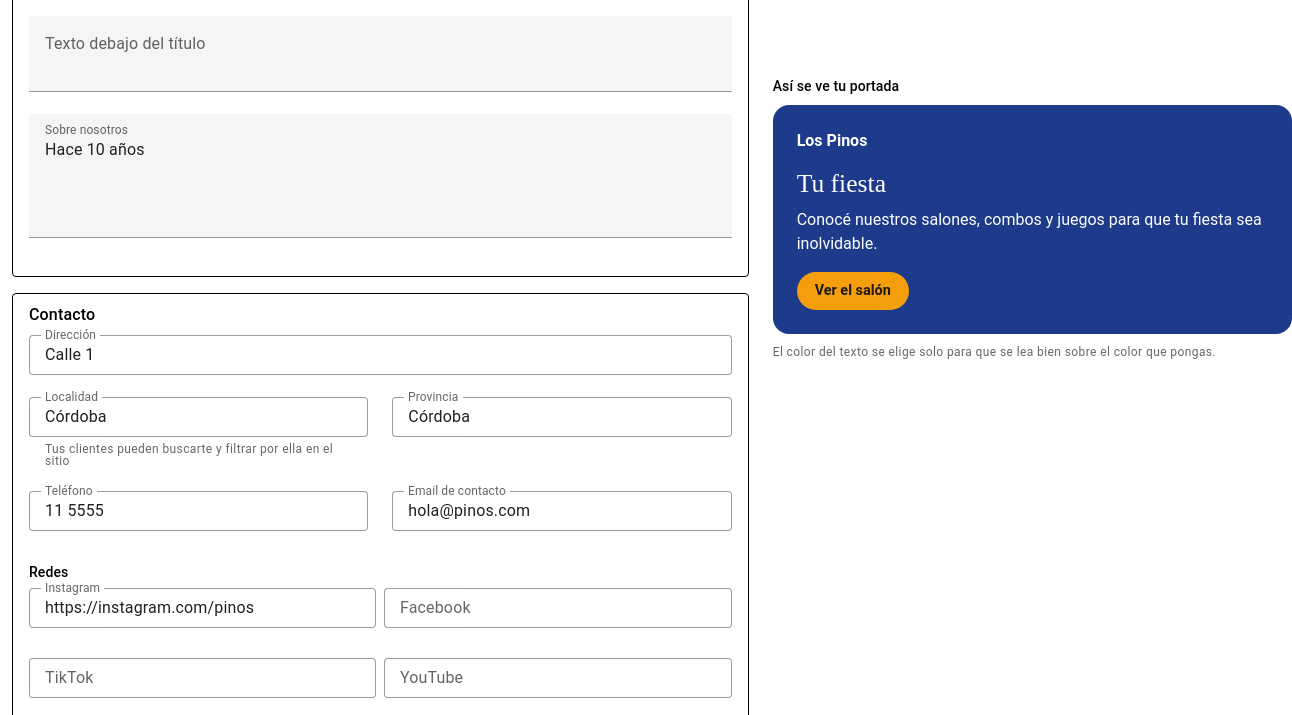
Test: MarcaView › guardado › sin cambios no se puede guardar; al editar aparece el aviso de cambios sin guardar
(page scrolled)
Step 1. Replace the text in the field labelled "Dirección" with "Calle 2" → point(380, 355), box [29, 335, 732, 375]
(page scrolled)
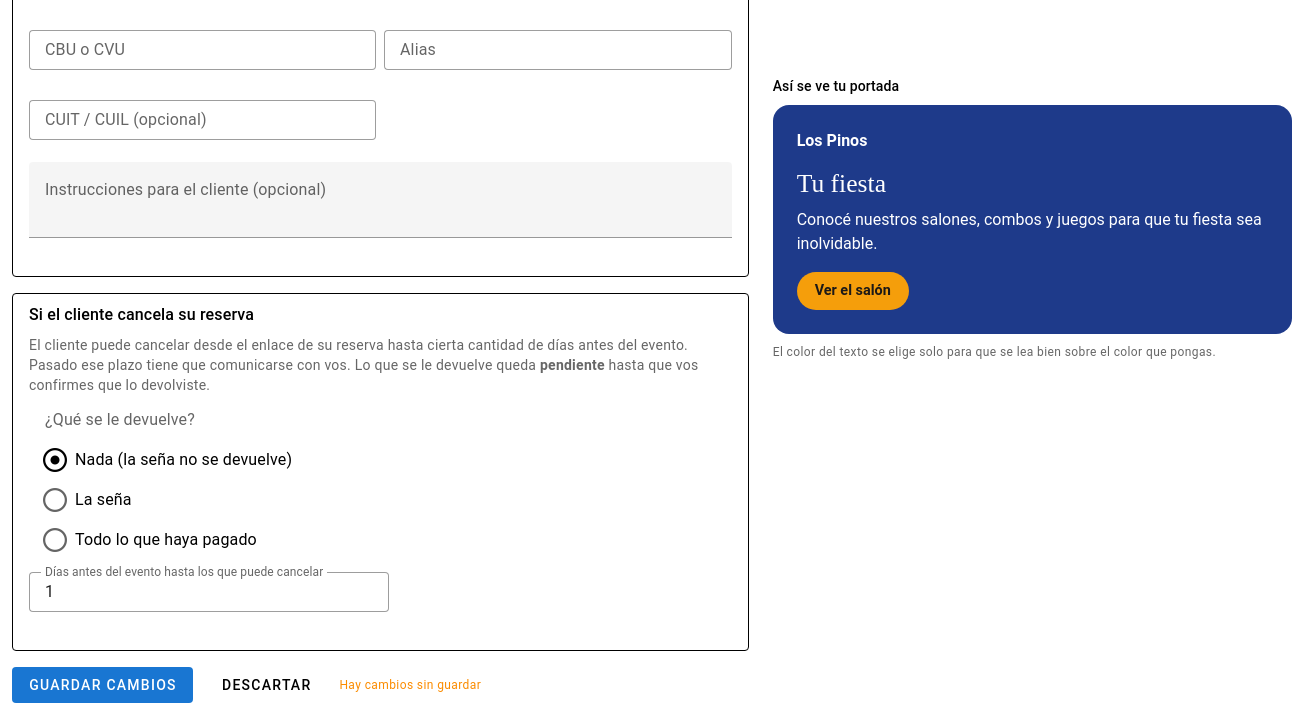
Result: the button "Guardar cambios" is enabled at [12, 667, 193, 703]
Result: the text "Hay cambios sin guardar" is shown at [339, 675, 481, 695]
